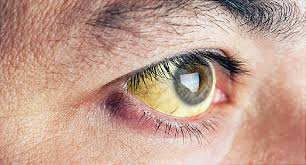pupil: (175, 59, 212, 103)
